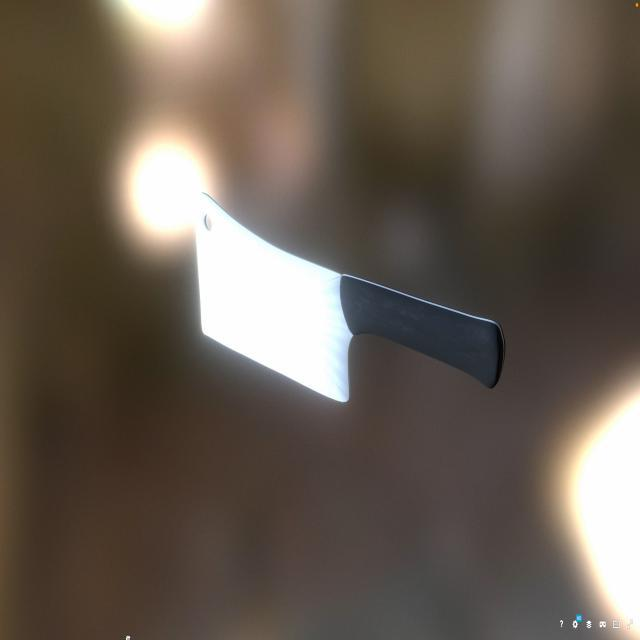cleaver: (193, 191, 506, 397)
